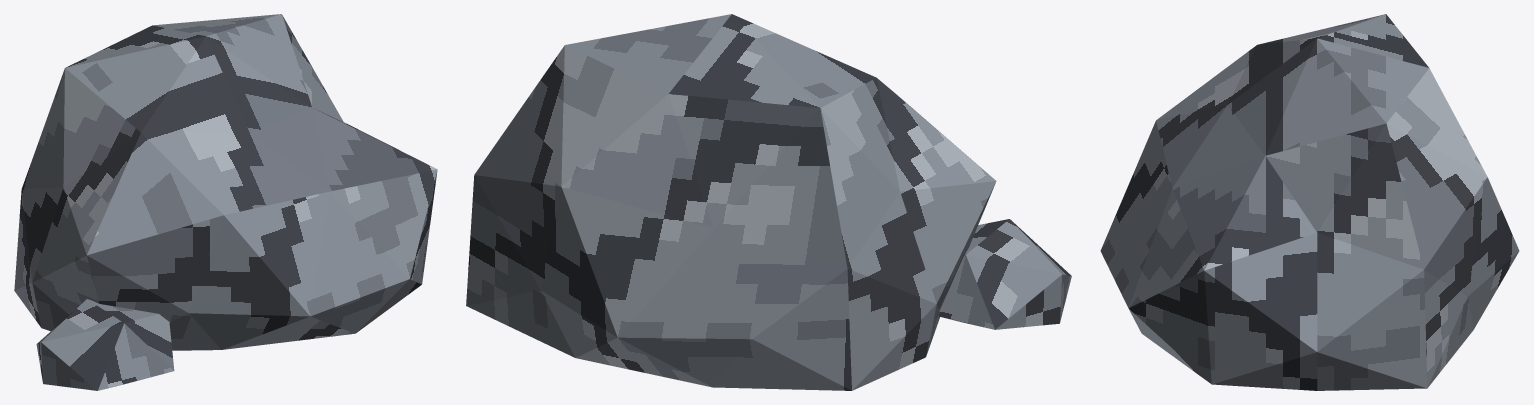
Rendered from rock_small.glb.
The picture shows the model from 3 angles, left to right: view 1: azimuth 30°, elevation 25°; view 2: azimuth 150°, elevation 25°; view 3: azimuth 270°, elevation 25°; orthographic projection. The views are drawn at different scales.
Visible parts, largest first — view 1: rock_small; view 2: rock_small; view 3: rock_small.
Boxes of the visible parts, x1,y1,x2,y2 form: rock_small: (14, 14, 437, 390); rock_small: (466, 14, 1071, 390); rock_small: (1100, 14, 1519, 390).
Size of the model in its own units: 1.05 by 0.6 by 0.8692.
1 material, 1 textured.
